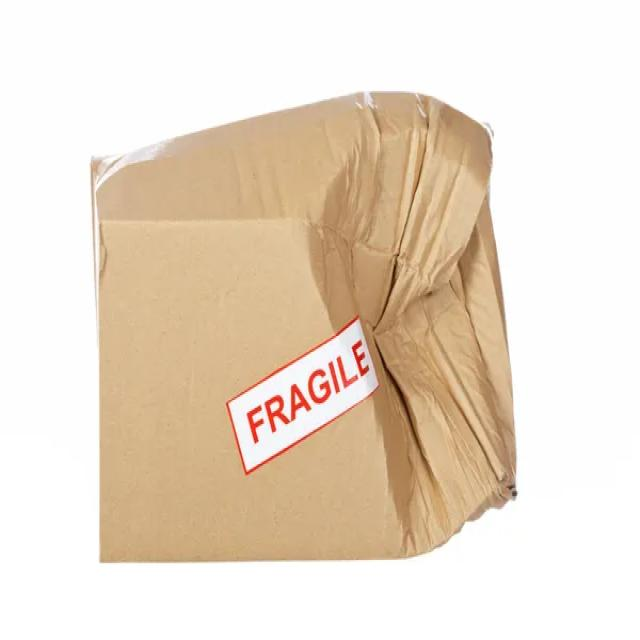Kardus kondisi bagus: (89, 89, 519, 571)
